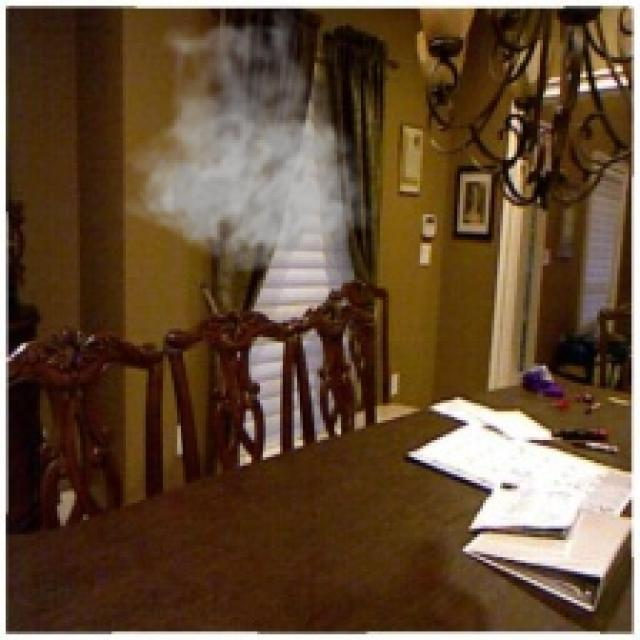Smoke: (117, 2, 374, 274)
